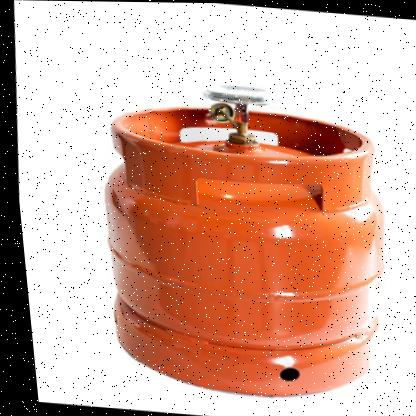gas-tank: (48, 67, 415, 415)
